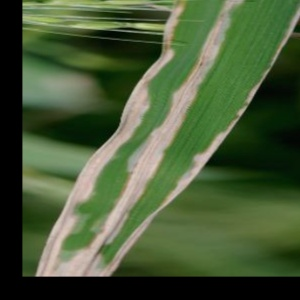Leaf_Blast: (139, 0, 262, 207)
